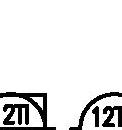instrumenttag: (1, 92, 47, 129), (80, 92, 122, 129)
